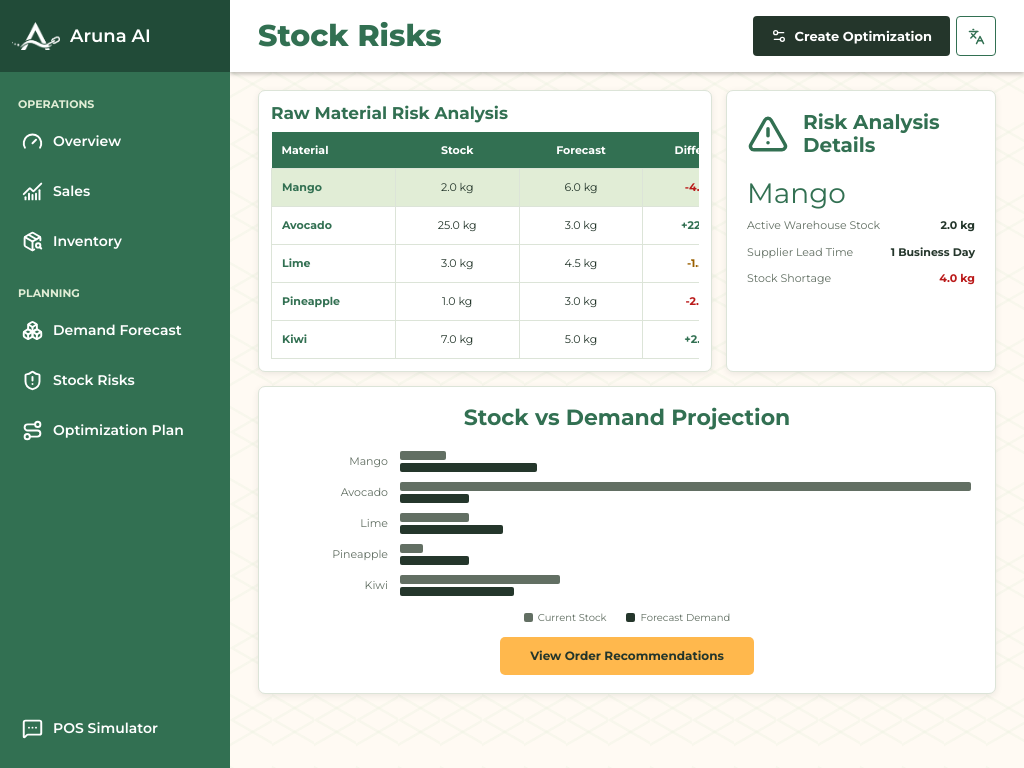
Scenario: StockRiskPage › renders risk analysis and updates selected material detail
Check: the heading "Raw Material Risk Analysis" is shown, box [271, 103, 508, 123]
Click the button "Lime" at x=333, y=263, box [282, 251, 385, 276]
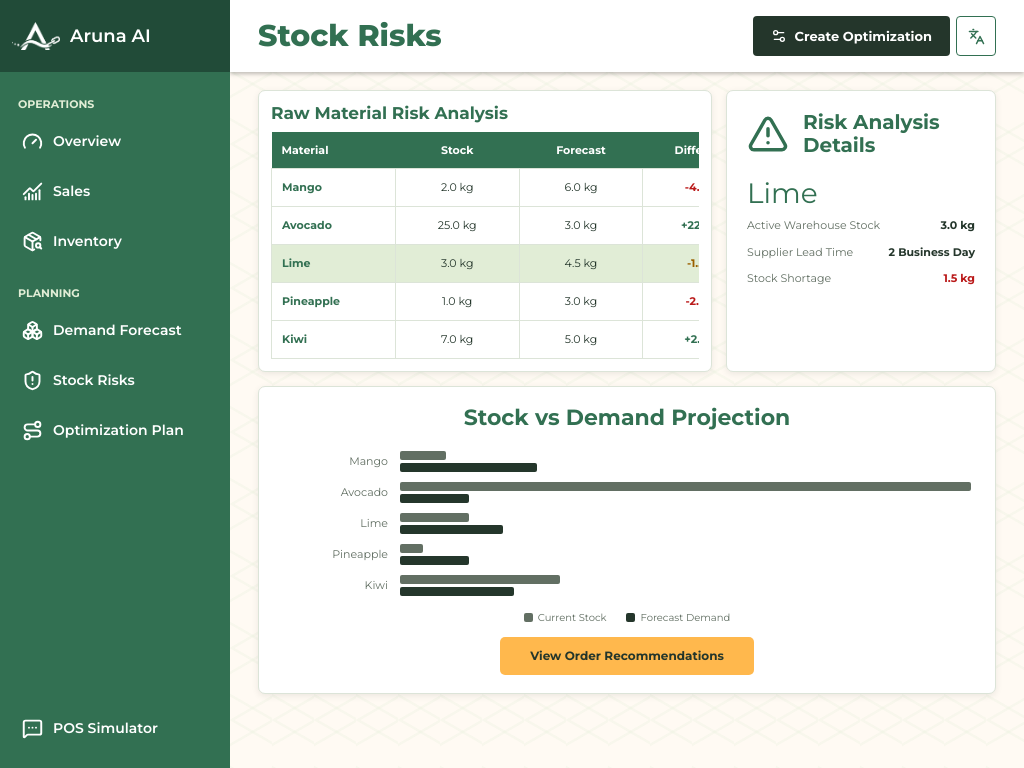
Check: the picture named "Current stock and forecast demand comparison by material" is shown, box [283, 446, 971, 601]
Check: the heading "Lime" is shown, box [747, 176, 818, 210]
Check: the text "1.5 kg" is shown, box [944, 270, 975, 286]
